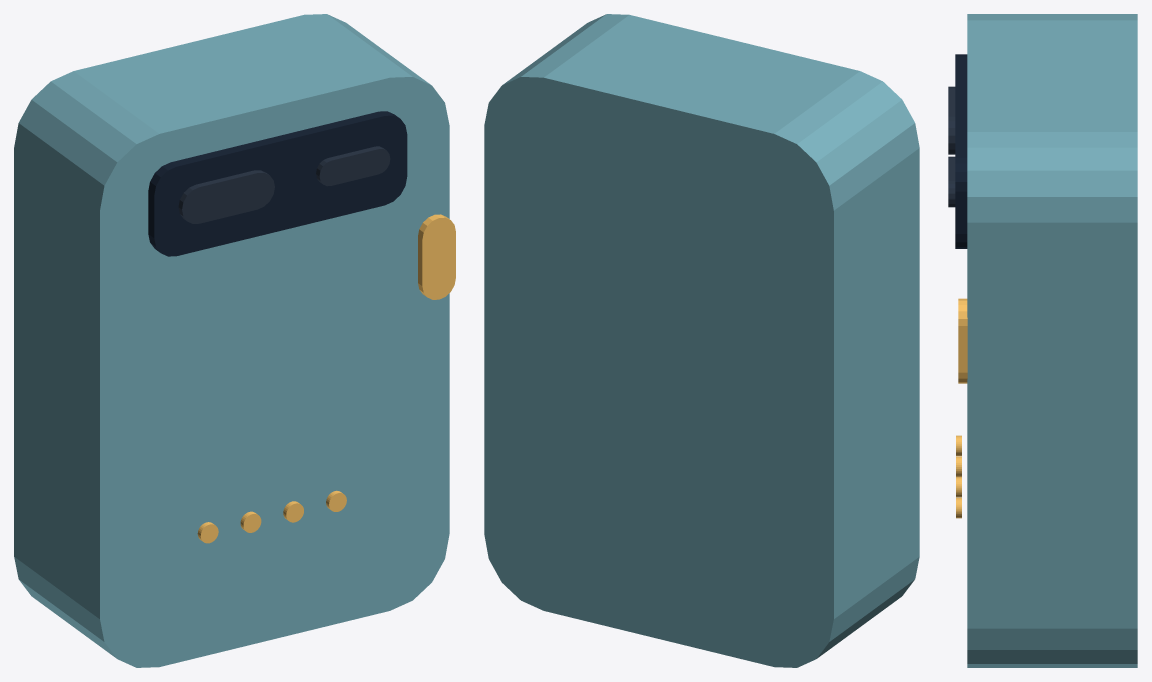
Rendered from powerbank.glb.
3 views of the same model, side by side, from view 1: azimuth 30°, elevation 25°; view 2: azimuth 150°, elevation 25°; view 3: azimuth 270°, elevation 25° (orthographic).
Parts seen in each view (by area): view 1: body, port panel, port usb a, power key, port usb c; view 2: body; view 3: body, port panel, power key, port usb a, port usb c.
Part boxes in pixels (x1,y1,x2,y2): body: (14, 14, 449, 667); port panel: (148, 111, 407, 256); port usb a: (178, 170, 274, 223); power key: (418, 214, 455, 299); port usb c: (316, 146, 390, 186); body: (484, 14, 919, 667); body: (967, 14, 1137, 667); port panel: (955, 54, 967, 248); power key: (958, 298, 967, 383); port usb a: (948, 86, 955, 154); port usb c: (948, 156, 955, 207).
Bounding box in the file's own units: 0.945 × 1.37 × 0.4445.
